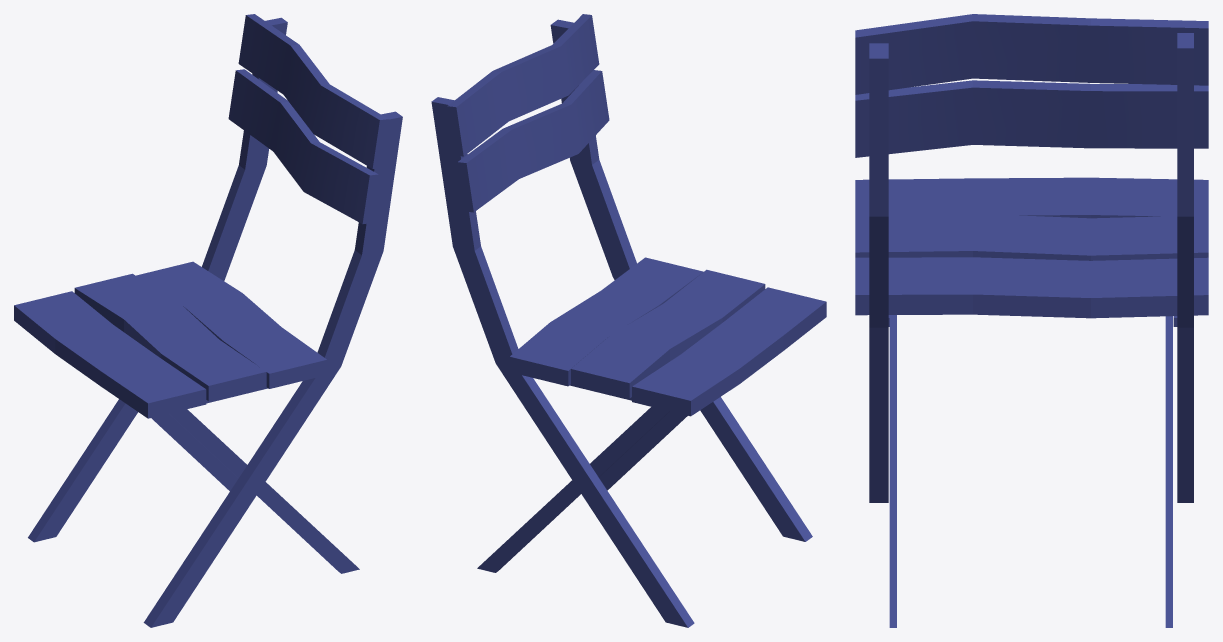
The model's file is SM_Chair_01.fbx.
3 views of the same model, side by side, from view 1: azimuth 30°, elevation 25°; view 2: azimuth 150°, elevation 25°; view 3: azimuth 270°, elevation 25° (orthographic). The views are drawn at different scales.
Visible parts, largest first — view 1: SM_Chair_01; view 2: SM_Chair_01; view 3: SM_Chair_01.
Boxes of the visible parts, x1=… form: SM_Chair_01: x1=14, y1=14, x2=402, y2=627; SM_Chair_01: x1=431, y1=14, x2=826, y2=627; SM_Chair_01: x1=855, y1=14, x2=1208, y2=627.
Size of the model in its own units: 255 by 428 by 223.
